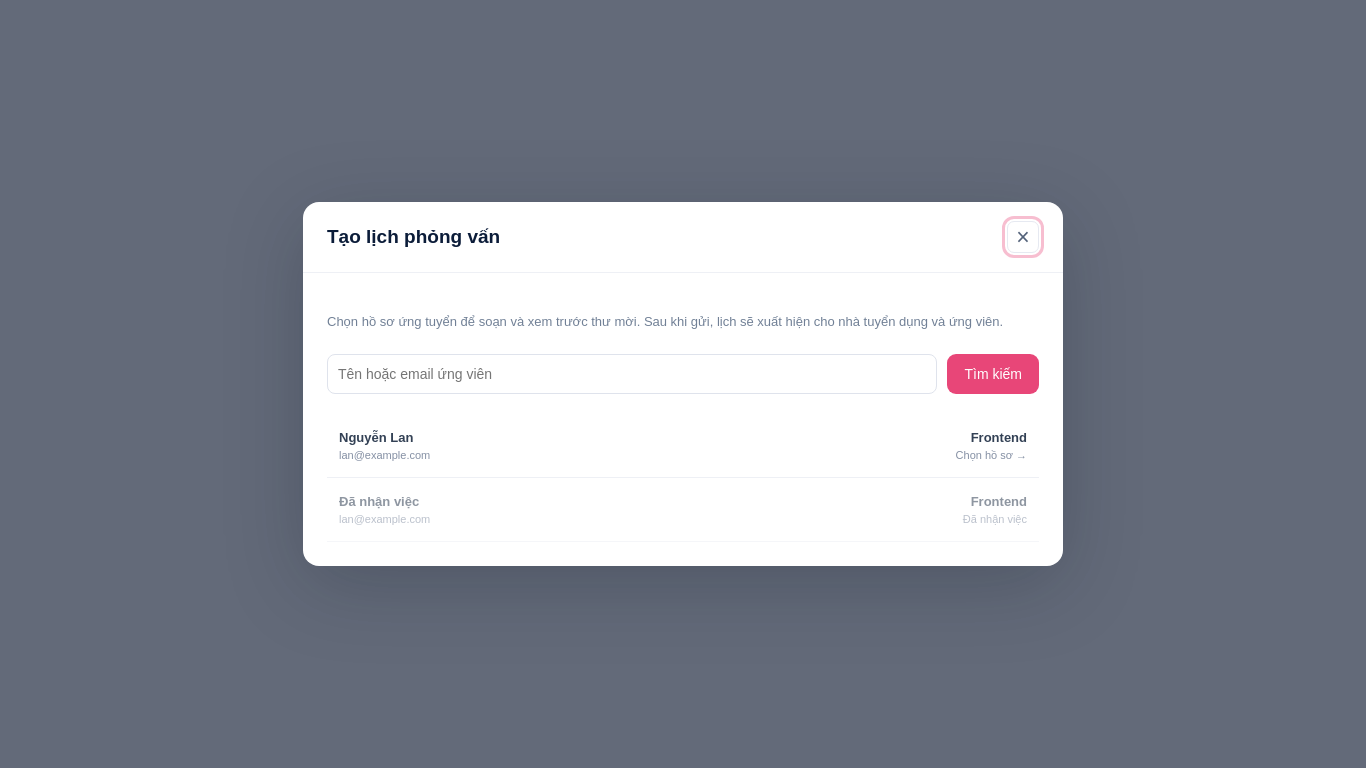
it: choosing an application loads fresh detail and first-time invitations prefill company and HR
Expected: the button "Đã nhận việc lan@example.com Frontend Đã nhận việc" is disabled, [327,478,1039,542]
Click the button "Nguyễn Lan lan@example.com Frontend Chọn hồ sơ →".
click(376, 437)  # box [327,414,1039,478]
(page scrolled)
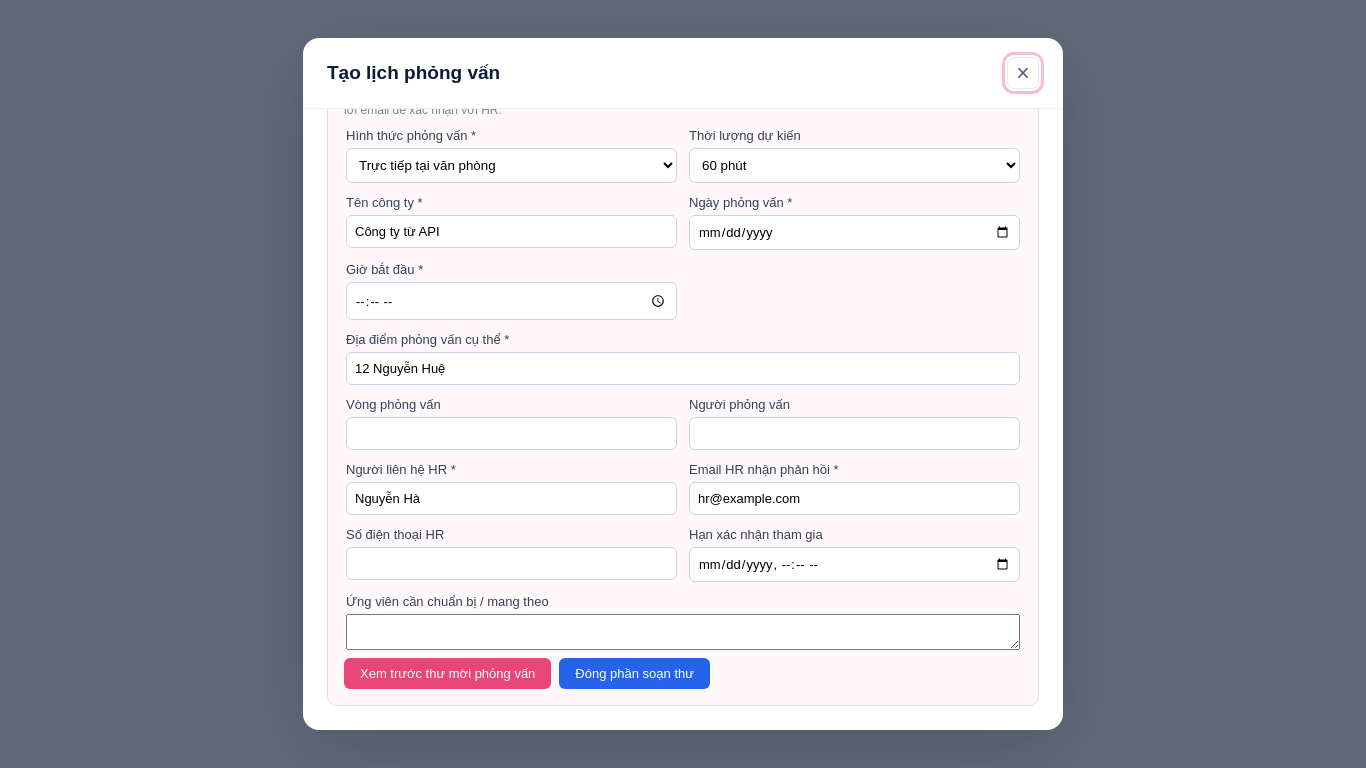
Now the field labelled "Tên công ty *" holds "Công ty từ API", box [346,215,677,248]
Now the field labelled "Địa điểm phỏng vấn cụ thể *" holds "12 Nguyễn Huệ", box [346,352,1020,385]
Now the field labelled "Người liên hệ HR *" holds "Nguyễn Hà", box [346,482,677,515]
